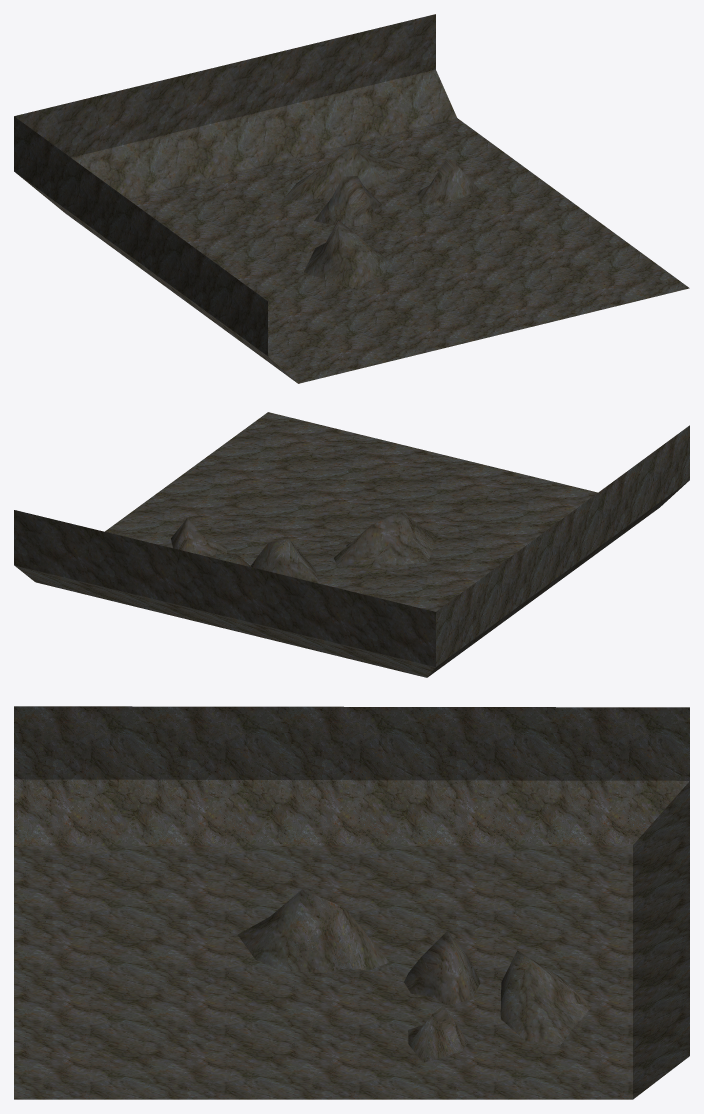
File: terrain_section03_guanka13_bj01.FBX
3 renders of one model, top to bottom at view 1: azimuth 30°, elevation 25°; view 2: azimuth 150°, elevation 25°; view 3: azimuth 270°, elevation 25°, orthographic. The views are drawn at different scales.
Visible parts, largest first — view 1: terrain_section03_guanka13_bj01; view 2: terrain_section03_guanka13_bj01; view 3: terrain_section03_guanka13_bj01.
Part boxes in pixels (box(x1,y1,x2,y2)): terrain_section03_guanka13_bj01: box(14, 14, 689, 383); terrain_section03_guanka13_bj01: box(14, 412, 689, 677); terrain_section03_guanka13_bj01: box(14, 706, 689, 1099).
Bounding box in the file's own units: 260 × 52.86 × 271.
